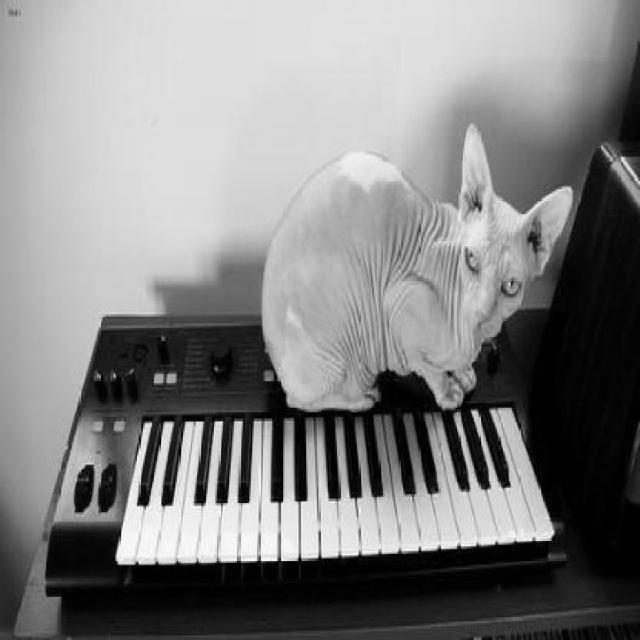Cat: (263, 121, 572, 410)
